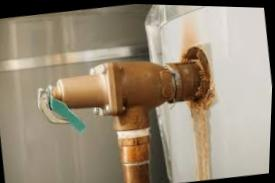leak: (183, 47, 213, 179)
